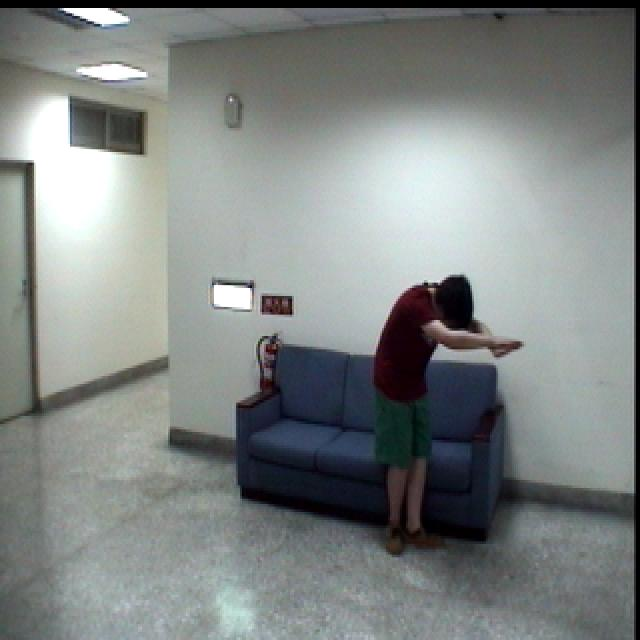bend: (365, 271, 533, 564)
